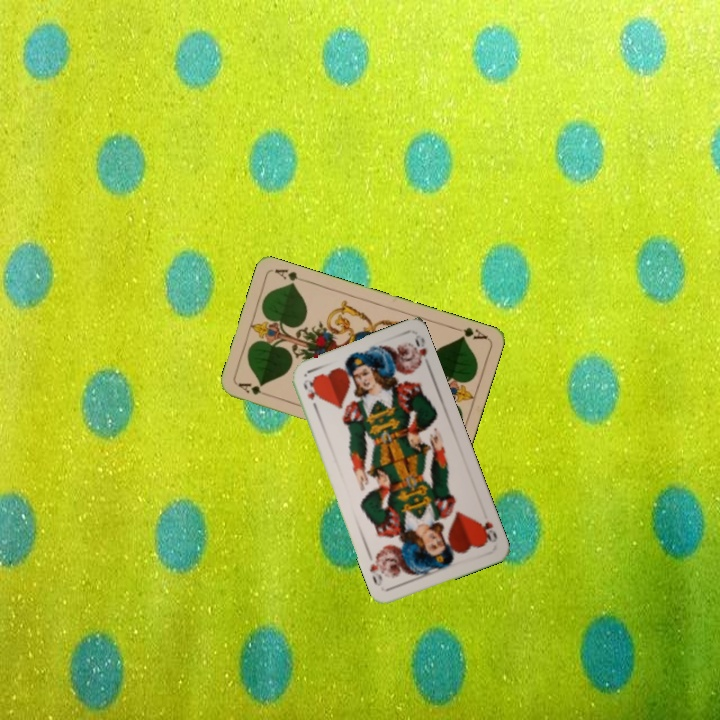GA: (234, 379, 273, 400), (449, 323, 489, 342)
HO: (299, 375, 320, 413), (476, 518, 500, 545)
